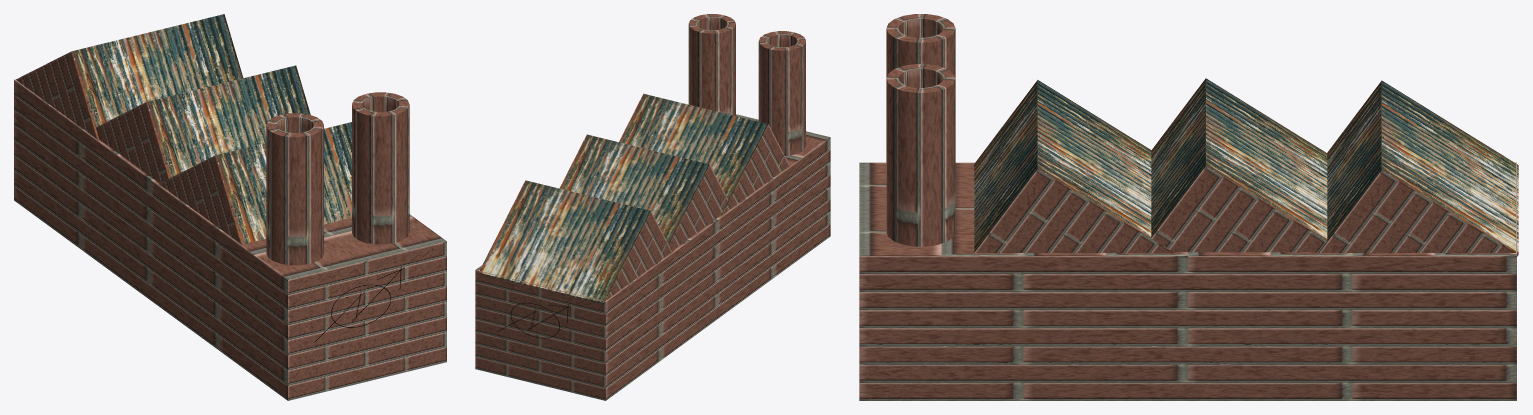
File: usine.FBX
The picture shows the model from 3 angles, left to right: view 1: azimuth 30°, elevation 25°; view 2: azimuth 150°, elevation 25°; view 3: azimuth 270°, elevation 25°; orthographic projection. The views are drawn at different scales.
Visible parts, largest first — view 1: Box001, Box002, Box003, Box004, Tube002, Tube001; view 2: Box001, Box002, Box003, Box004, Tube001, Tube002; view 3: Box001, Box002, Box004, Box003, Tube002, Tube001.
Boxes of the visible parts, box(x1,y1,x2,y2) form: Box001: box(14, 79, 446, 400); Box002: box(16, 14, 243, 139); Box003: box(96, 65, 310, 183); Box004: box(159, 122, 351, 244); Tube002: box(352, 92, 409, 244); Tube001: box(266, 113, 323, 265); Box001: box(475, 114, 830, 400); Box002: box(478, 180, 671, 304); Box003: box(559, 134, 728, 250); Box004: box(619, 93, 789, 215); Tube001: box(758, 31, 805, 155); Tube002: box(688, 14, 735, 115); Box001: box(859, 162, 1516, 400); Box002: box(1319, 80, 1518, 256); Box004: box(974, 80, 1173, 252); Box003: box(1151, 78, 1327, 252); Tube002: box(886, 64, 955, 246); Tube001: box(886, 14, 955, 77).
Size of the model in its own units: 40.19 by 60.21 by 120.
3 materials, 3 textured.
